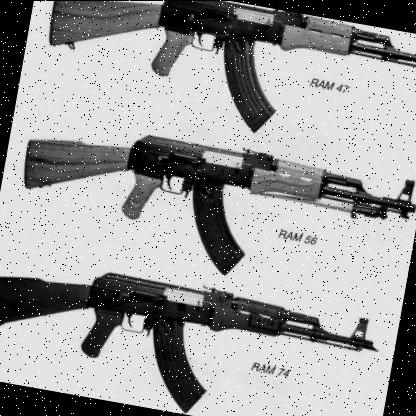rifle: (8, 111, 413, 310), (30, 0, 416, 170), (0, 247, 380, 416)
